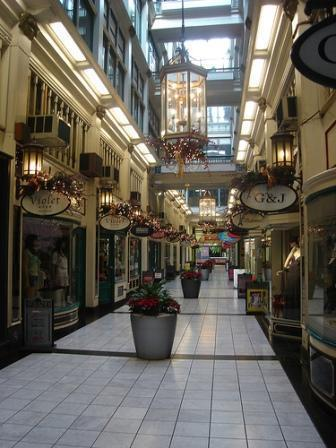Matera: (129, 287, 180, 363), (180, 270, 207, 299)
